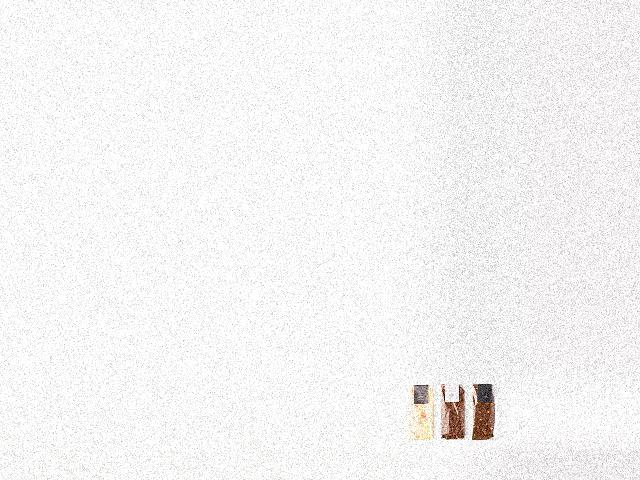chocolate: (473, 384, 499, 442)
